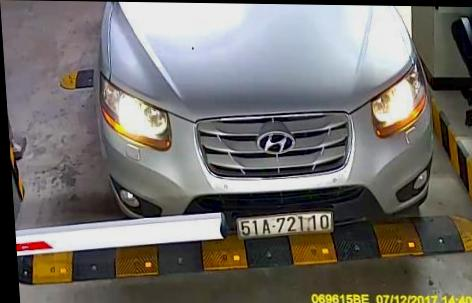License_Plate: (232, 209, 344, 239)
